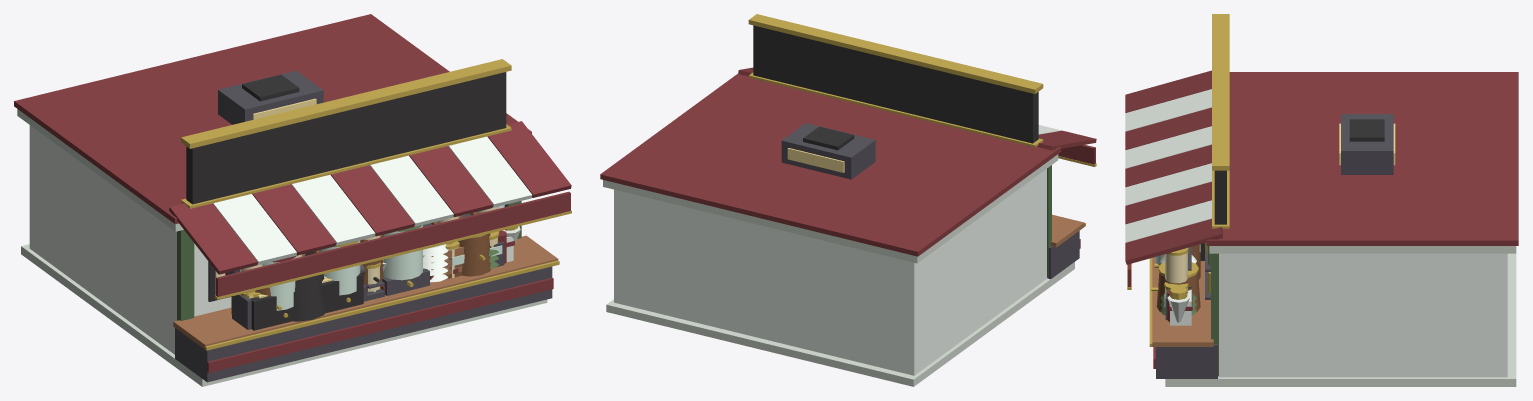
The model's file is downs-stalls.glb.
3 views of the same model, side by side, from view 1: azimuth 30°, elevation 25°; view 2: azimuth 150°, elevation 25°; view 3: azimuth 270°, elevation 25° (orthographic). The views are drawn at different scales.
Visible parts, largest first — view 1: dn_stall_0_accent, dn_stall_0_mint, dn_stall_3_black, dn_stall_0_black2, dn_stall_0_gold, dn_stall_0_mint2, dn_stall_8_saddle, dn_stall_6_glowmint, dn_stall_9_black, dn_stall_0_money2, dn_stall_11_saddle2, dn_stall_0_saddle (+7 smaller); view 2: dn_stall_0_mint, dn_stall_0_accent, dn_stall_2_black, dn_stall_0_black, dn_stall_0_mint2, dn_stall_0_gold, dn_stall_0_black2, dn_stall_0_glowgold, dn_stall_8_saddle, dn_stall_3_money2; view 3: dn_stall_0_accent, dn_stall_0_mint, dn_stall_0_mint2, dn_stall_0_black2, dn_stall_0_gold, dn_stall_8_saddle, dn_stall_1_black, dn_stall_0_money2, dn_stall_0_black, dn_stall_4_glasswarm, dn_stall_11_saddle2, dn_stall_3_money2 (+2 smaller).
Part boxes in pixels (<box>): dn_stall_0_accent: <box>14,14,571,372</box>; dn_stall_0_mint: <box>29,125,532,354</box>; dn_stall_3_black: <box>186,72,506,321</box>; dn_stall_0_black2: <box>175,70,552,382</box>; dn_stall_0_gold: <box>181,59,571,350</box>; dn_stall_0_mint2: <box>17,109,547,386</box>; dn_stall_8_saddle: <box>173,212,557,347</box>; dn_stall_6_glowmint: <box>262,225,422,310</box>; dn_stall_9_black: <box>186,147,363,330</box>; dn_stall_0_money2: <box>177,201,521,320</box>; dn_stall_11_saddle2: <box>255,233,490,296</box>; dn_stall_0_saddle: <box>173,246,558,349</box>; dn_stall_0_mint: <box>614,125,1061,375</box>; dn_stall_0_accent: <box>600,67,1096,256</box>; dn_stall_2_black: <box>753,27,1037,146</box>; dn_stall_0_black: <box>753,25,1038,146</box>; dn_stall_0_mint2: <box>603,154,1074,386</box>; dn_stall_0_gold: <box>748,14,1096,226</box>; dn_stall_0_black2: <box>762,81,1079,279</box>; dn_stall_0_glowgold: <box>787,148,843,172</box>; dn_stall_8_saddle: <box>1051,214,1084,244</box>; dn_stall_3_money2: <box>1047,165,1051,277</box>; dn_stall_0_accent: <box>1125,70,1518,368</box>; dn_stall_0_mint: <box>1125,89,1507,377</box>; dn_stall_0_mint2: <box>1165,246,1516,386</box>; dn_stall_0_black2: <box>1156,114,1393,378</box>; dn_stall_0_gold: <box>1127,14,1229,346</box>; dn_stall_8_saddle: <box>1152,257,1213,344</box>; dn_stall_1_black: <box>1214,119,1384,224</box>; dn_stall_0_money2: <box>1211,253,1218,375</box>; dn_stall_0_black: <box>1214,170,1226,224</box>; dn_stall_4_glasswarm: <box>1165,252,1187,295</box>; dn_stall_11_saddle2: <box>1156,272,1200,312</box>; dn_stall_3_money2: <box>1160,253,1218,361</box>.
Size of the model in its own units: 9.1 by 5.42 by 8.96.
